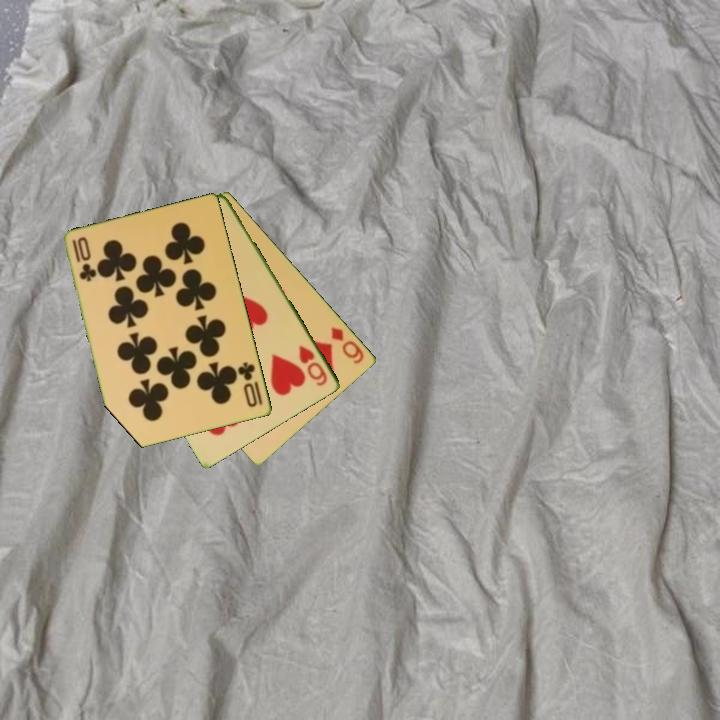10c: (234, 358, 266, 410), (69, 233, 98, 285)
6d: (327, 324, 367, 367)
6h: (296, 341, 331, 389)
